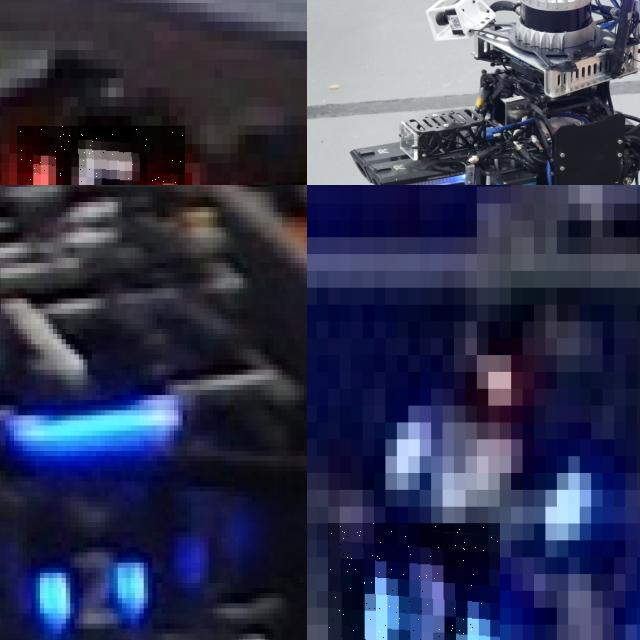B1: (328, 523, 499, 640)
B2: (35, 542, 152, 640)
R5: (17, 125, 184, 185)
